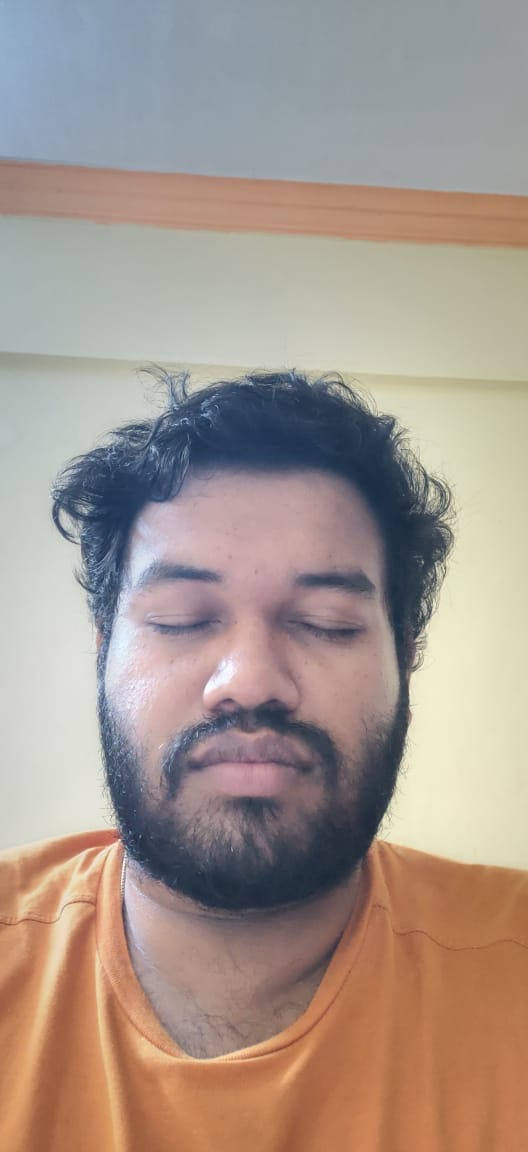Sleeping: (122, 568, 387, 654)
